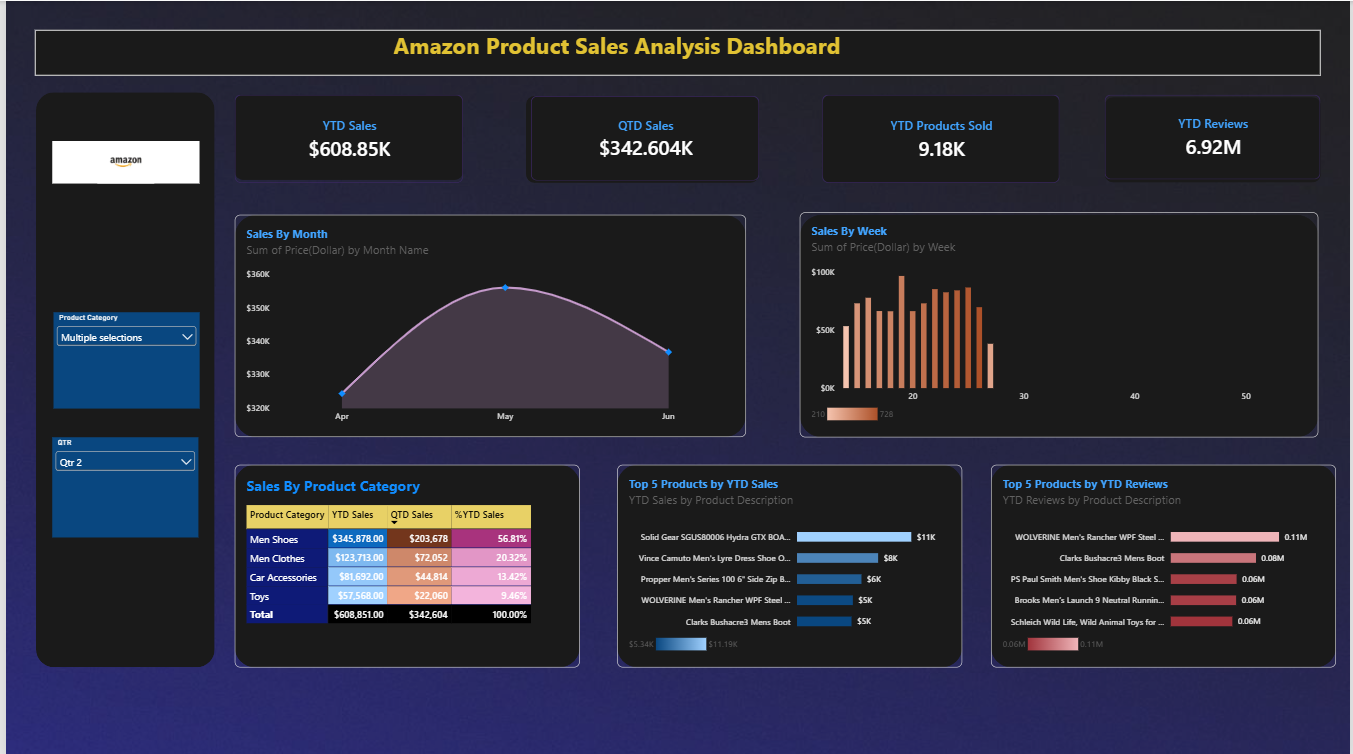

The dashboard page shown, as its layout file describes it:
{"tool":"powerbi","page":{"name":"Page 1","canvas":[1920,1080],"ordinal":0},"visuals":[{"type":"shape","box":[41.1,41.1,1837.5,66.1],"z":0},{"type":"shape","box":[326.8,133.9,326.1,121.7],"z":0,"group":"g1"},{"type":"textbox","box":[553.7,41.1,812.5,87.5],"z":1000},{"type":"cardVisual","fields":{"Data":["Amazon_Data.YTD Sales"]},"box":[326.8,133.9,326.1,126.1],"z":1000,"group":"g1"},{"type":"shape","box":[42.9,130.4,255.4,821.4],"z":2000},{"type":"shape","box":[743.1,136.1,332.6,123.9],"z":2000,"group":"g1"},{"type":"cardVisual","fields":{"Data":["Amazon_Data.QTD Sales"]},"box":[750.7,136.1,326.1,121.7],"z":3000,"group":"g1"},{"type":"shape","box":[326.8,305.4,730.4,317.9],"z":3000},{"type":"group","id":"g1","title":"Group 1","box":[326.8,133.9,1551.8,126.8],"z":4000},{"type":"shape","box":[1570.3,138.2,308.7,121.7],"z":4000,"group":"g1"},{"type":"shape","box":[1165.9,133.9,339.1,126.1],"z":5000,"group":"g1"},{"type":"areaChart","title":"Sales By Month","fields":{"Category":["Date Table.Month Name"],"Y":["Sum(Amazon_Data.Price(Dollar))"]},"box":[326.8,305.4,730.4,317.9],"z":5000},{"type":"cardVisual","fields":{"Data":["Amazon_Data.YTD Products Sold"]},"box":[1165.9,133.9,339.1,126.1],"z":6000,"group":"g1"},{"type":"shape","box":[1133.9,305.4,741.1,317.9],"z":6000},{"type":"cardVisual","fields":{"Data":["Amazon_Data.YTD Reviews"]},"box":[1570.3,133.9,308.7,121.7],"z":7000,"group":"g1"},{"type":"columnChart","title":"Sales By Week","fields":{"Category":["Date Table.Week"],"Y":["Sum(Amazon_Data.Price(Dollar))"]},"box":[1133.9,301.8,741.1,321.4],"z":7000},{"type":"shape","box":[326.8,662.5,492.9,289.3],"z":8000},{"type":"pivotTable","title":"Sales By Product Category","fields":{"Rows":["Amazon_Data.Product Category"],"Values":["Amazon_Data.YTD Sales1","Amazon_Data.QTD Sales1","Amazon_Data.YTD Sales"]},"box":[326.8,662.5,492.9,289.3],"z":9000},{"type":"shape","box":[873.2,662.5,492.9,289.3],"z":9001},{"type":"shape","box":[1407.2,662.5,492.9,289.3],"z":9002},{"type":"clusteredBarChart","title":"Top 5 Products by YTD Sales","fields":{"Category":["Amazon_Data.Product Description"],"Y":["Amazon_Data.YTD Sales"]},"box":[873.2,662.5,492.9,289.3],"z":9003},{"type":"clusteredBarChart","title":"Top 5 Products by YTD Reviews","fields":{"Category":["Amazon_Data.Product Description"],"Y":["Amazon_Data.YTD Reviews"]},"box":[1407.2,662.5,492.9,289.3],"z":9004},{"type":"slicer","fields":{"Values":["Amazon_Data.Product Category"]},"box":[67.9,444.6,208.9,137.5],"z":9005},{"type":"slicer","fields":{"Values":["Date Table.QTR"]},"box":[66.1,623.2,208.9,142.9],"z":9006},{"type":"image","box":[66.1,200,210.7,60.7],"z":9007}]}

Visuals, with their boxes in screenshot pixels (x1, y1, x2, y2), scaled from the page's 1920x1080 canvas onto the 1353x754 screenshot:
shape: 29:29:1324:75
shape: 230:93:460:178
textbox: 390:29:963:90
cardVisual - Amazon_Data.YTD Sales: 230:93:460:182
shape: 30:91:210:664
shape: 524:95:758:182
cardVisual - Amazon_Data.QTD Sales: 529:95:759:180
shape: 230:213:745:435
"Group 1" group: 230:93:1324:182
shape: 1107:96:1324:181
shape: 822:93:1061:182
"Sales By Month" areaChart: 230:213:745:435
cardVisual - Amazon_Data.YTD Products Sold: 822:93:1061:182
shape: 799:213:1321:435
cardVisual - Amazon_Data.YTD Reviews: 1107:93:1324:178
"Sales By Week" columnChart: 799:211:1321:435
shape: 230:463:578:664
"Sales By Product Category" pivotTable: 230:463:578:664
shape: 615:463:963:664
shape: 992:463:1339:664
"Top 5 Products by YTD Sales" clusteredBarChart: 615:463:963:664
"Top 5 Products by YTD Reviews" clusteredBarChart: 992:463:1339:664
slicer - Amazon_Data.Product Category: 48:310:195:406
slicer - Date Table.QTR: 47:435:194:535
image: 47:140:195:182
